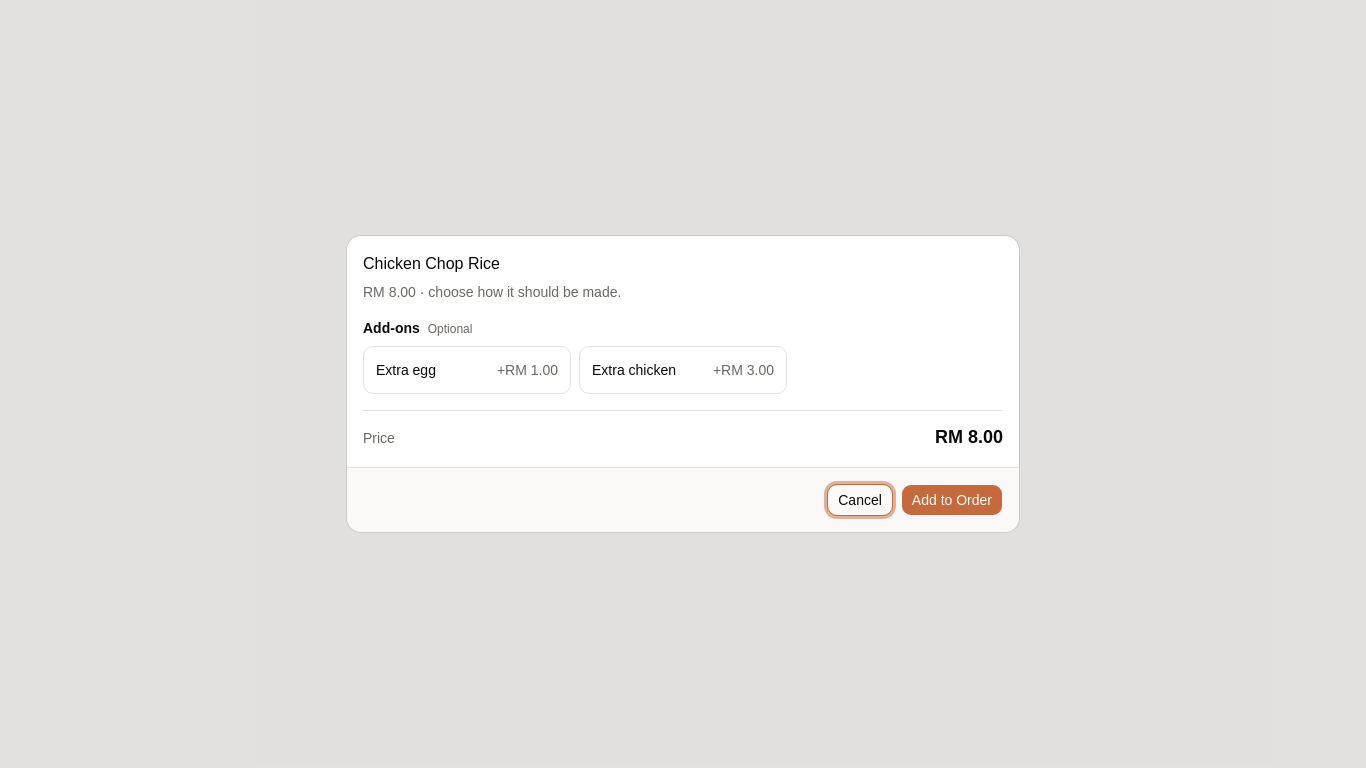
Test: the running price is the price that reaches the cart › adds a surcharge as it is chosen
Click the checkbox with test id "modifier-option": (467, 370) [363,346,571,394]
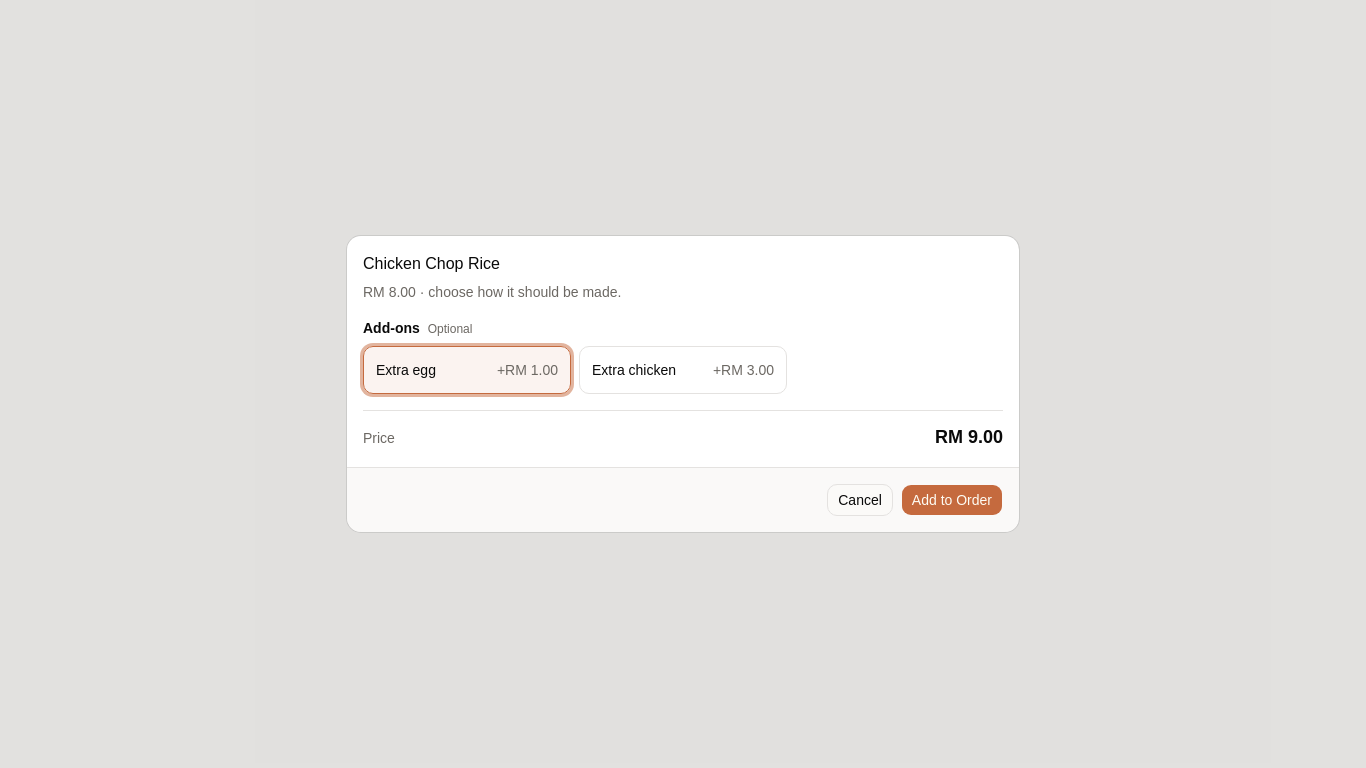
Now the text with test id "customise-price" reads "RM 9.00", box [935,427,1003,447]
Click the checkbox with test id "modifier-option": (683, 370) [579,346,787,394]
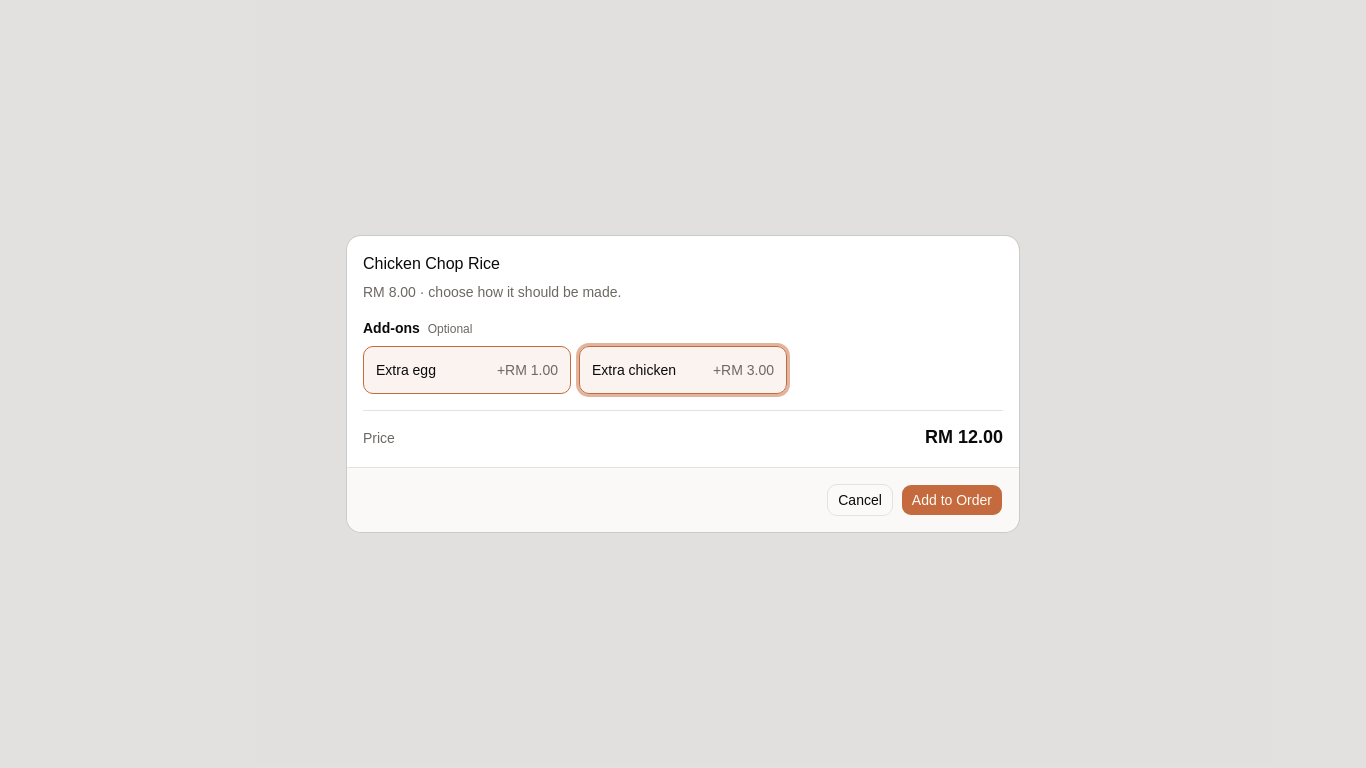
Now the text with test id "customise-price" reads "RM 12.00", box [925,427,1003,447]
